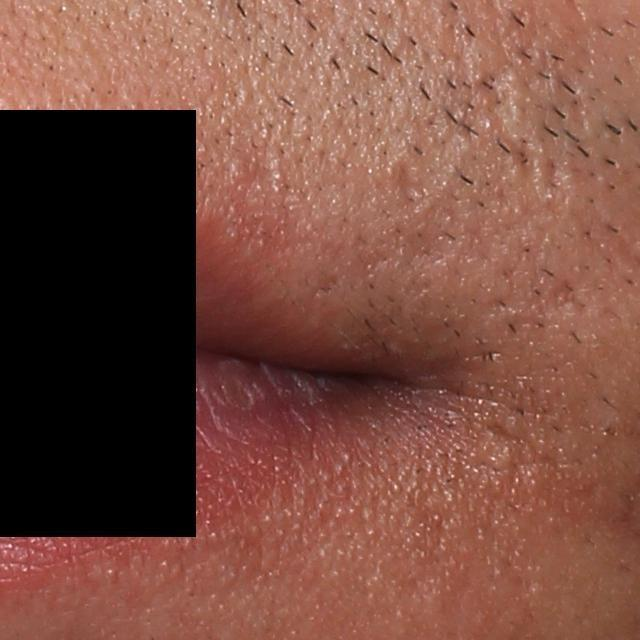atrophic_scar: (471, 60, 536, 177), (412, 216, 480, 277), (390, 156, 430, 210), (550, 273, 584, 323)
